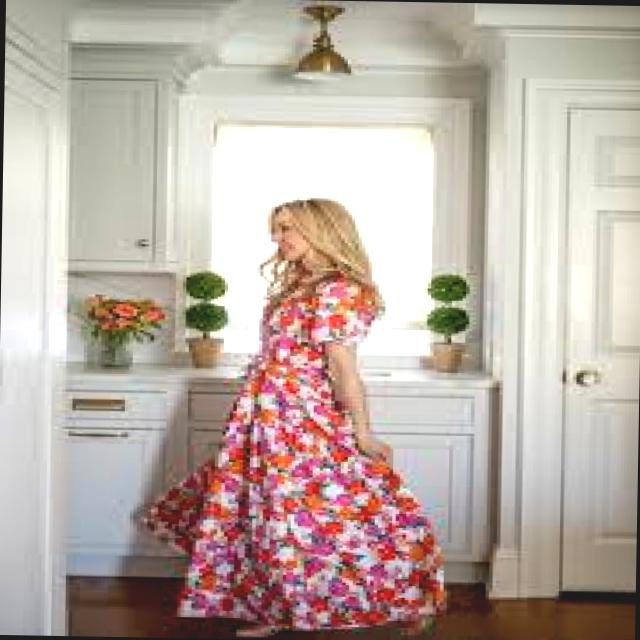dress: (141, 276, 447, 630)
